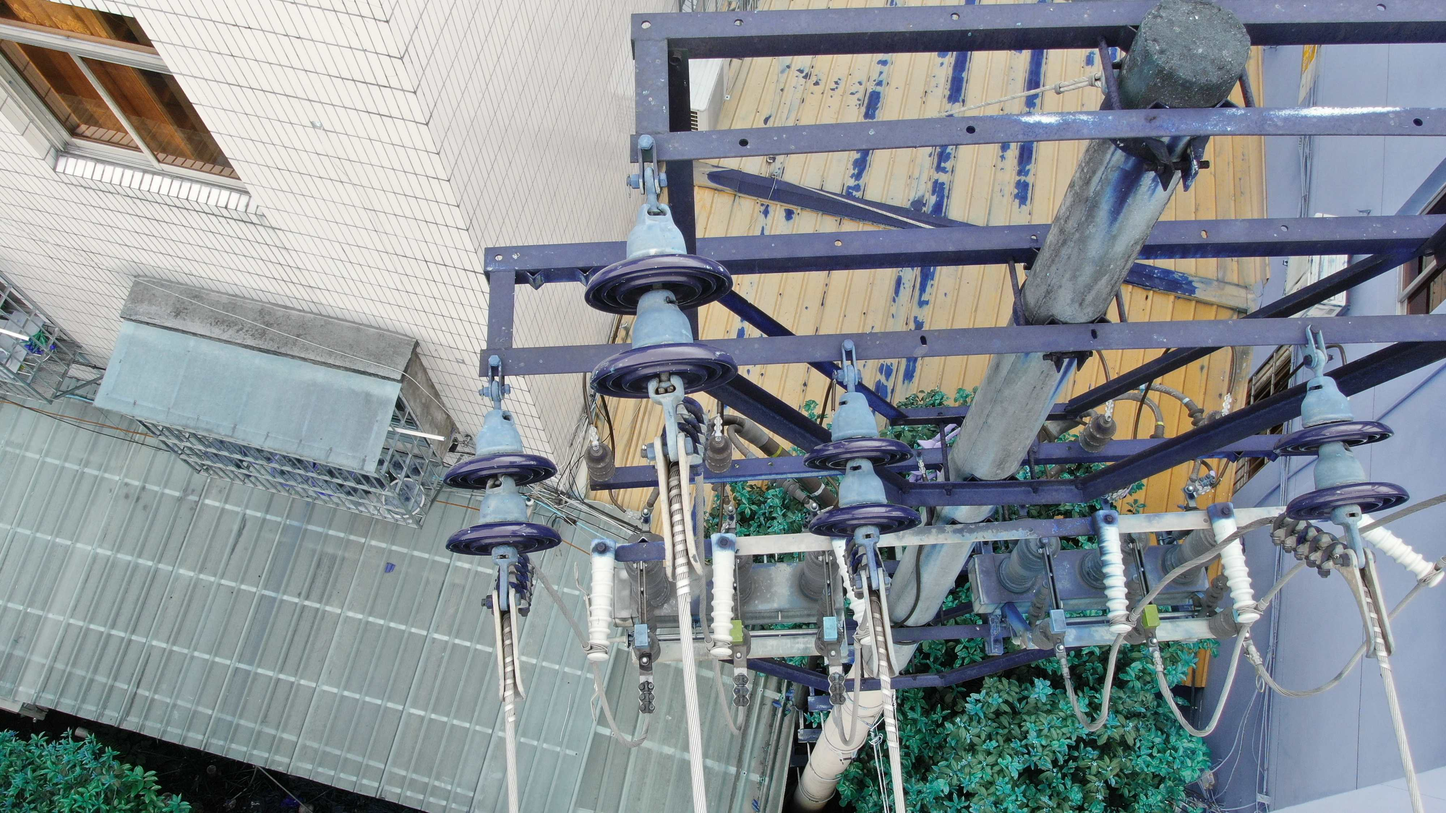severe_soiling_no_discharge_whole: (580, 197, 743, 409), (1088, 505, 1135, 638)
